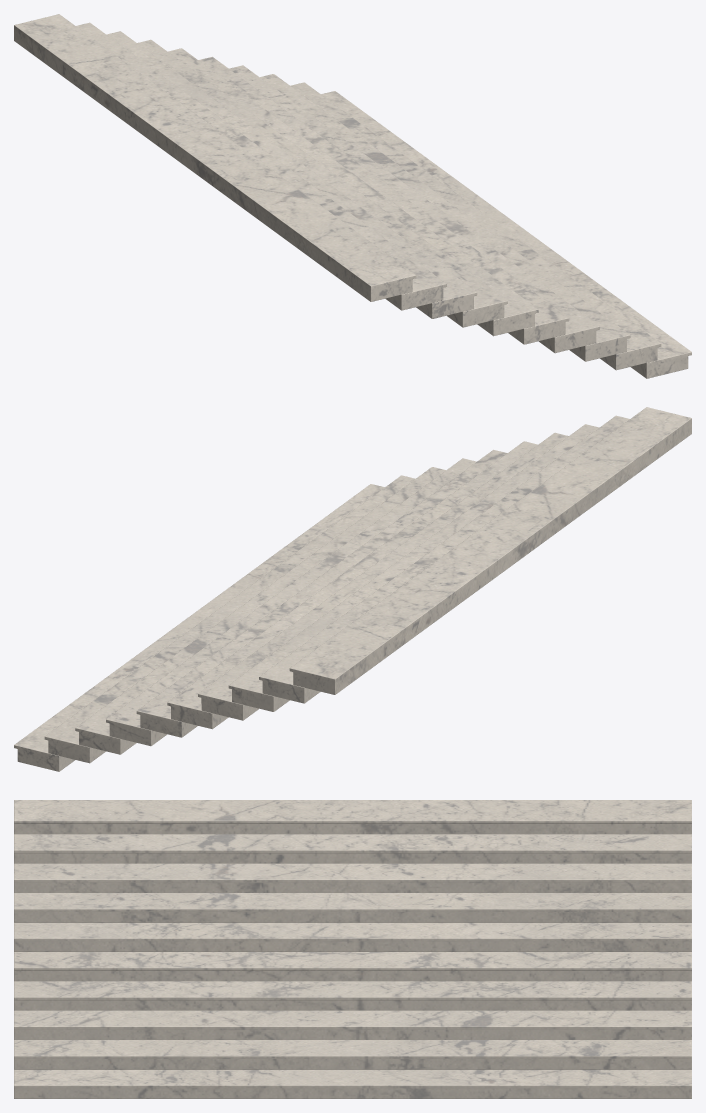
The model's file is stairs_side_with_texture.fbx.
3 renders of one model, top to bottom at view 1: azimuth 30°, elevation 25°; view 2: azimuth 150°, elevation 25°; view 3: azimuth 270°, elevation 25°, orthographic. The views are drawn at different scales.
Visible parts, largest first — view 1: stairs_to_2; view 2: stairs_to_2; view 3: stairs_to_2.
Boxes of the visible parts, x1,y1,x2,y2 form: stairs_to_2: (14,14,691,378); stairs_to_2: (14,407,691,771); stairs_to_2: (14,800,691,1098).
Bounding box in the file's own units: 4.91 × 2.34 × 9.46.
